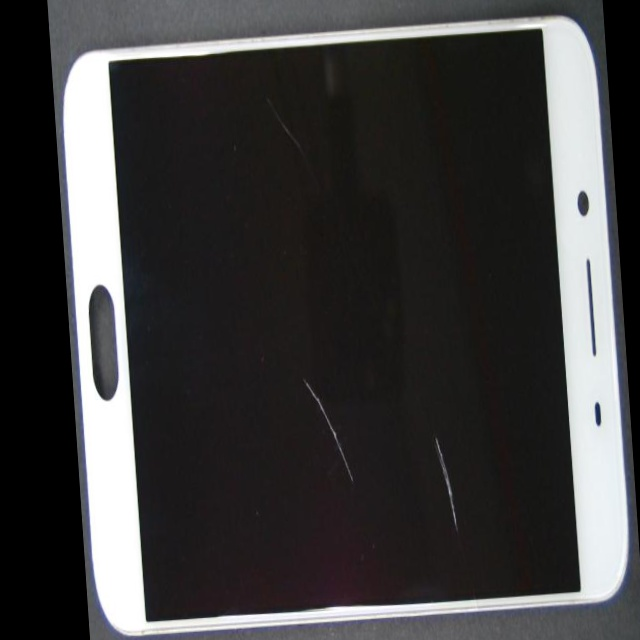scratch: (216, 100, 634, 640), (243, 293, 497, 640)
